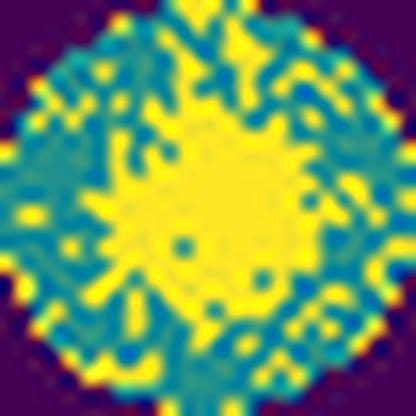Center: (75, 26, 328, 348)
